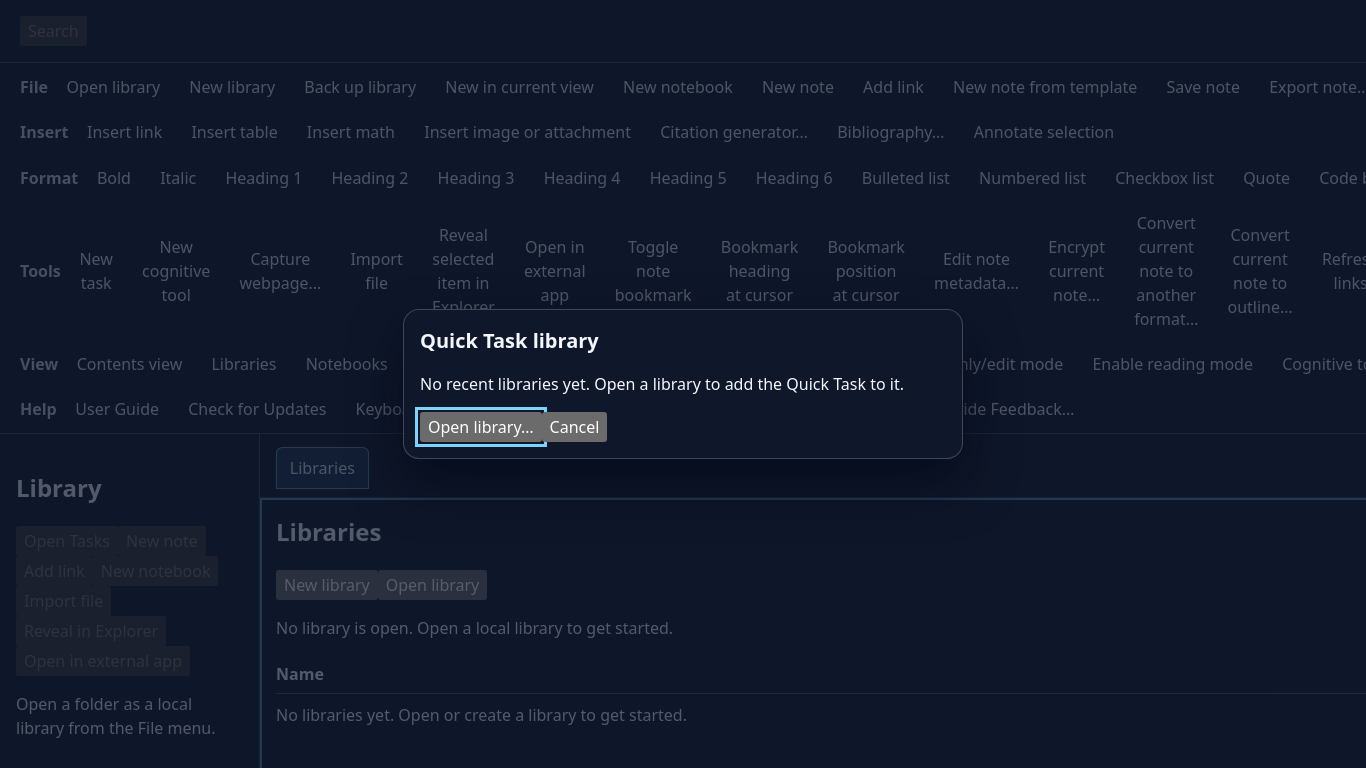
Quick Task with no notebook open › asks for a library first when none is open, then shows the task dialog with the chooser
Expected: the tab "Libraries" is shown, [276,447,369,489]
Expected: the dialog "Quick Task library" is shown, [403,309,963,459]
Click the button "Open library…" at x=481, y=427, box [420,412,542,442]
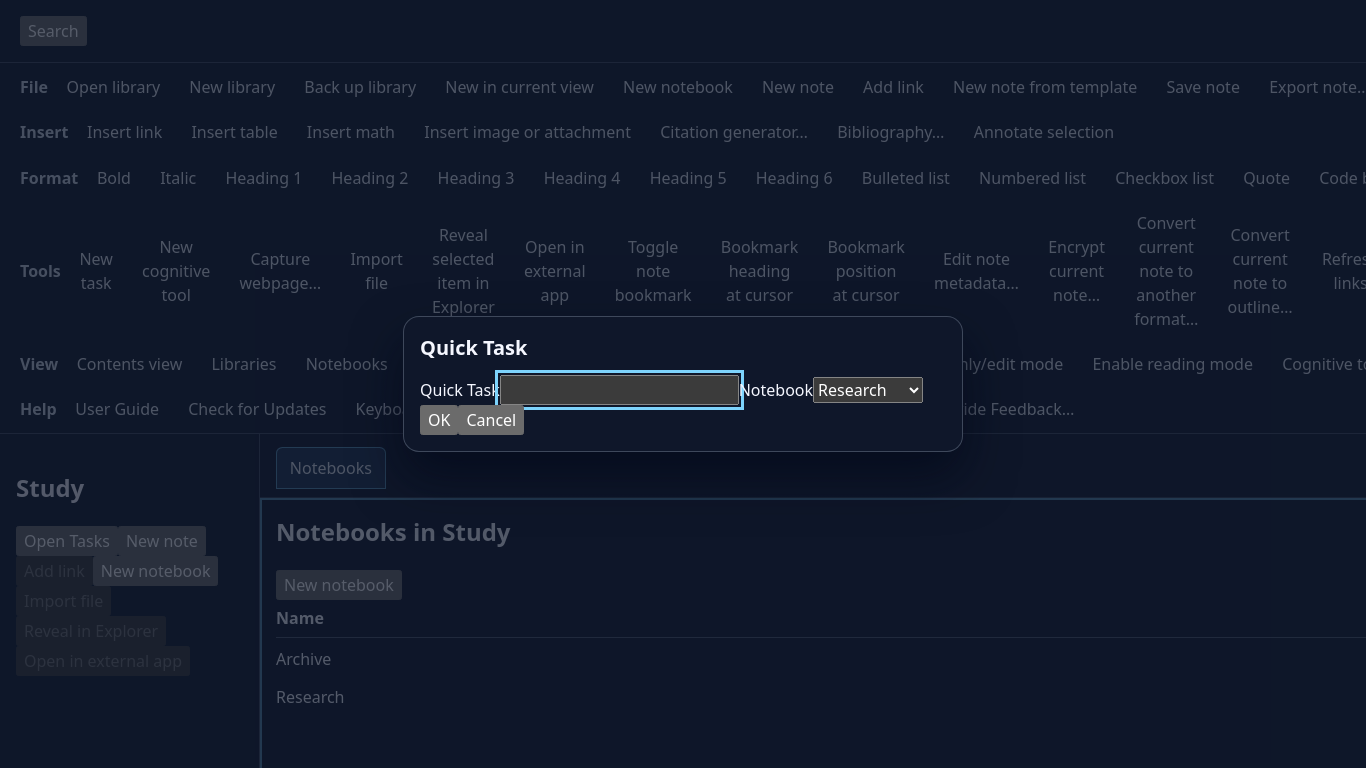
Now the dropdown labelled "Notebook" shows "Research", box [813,377,923,403]
